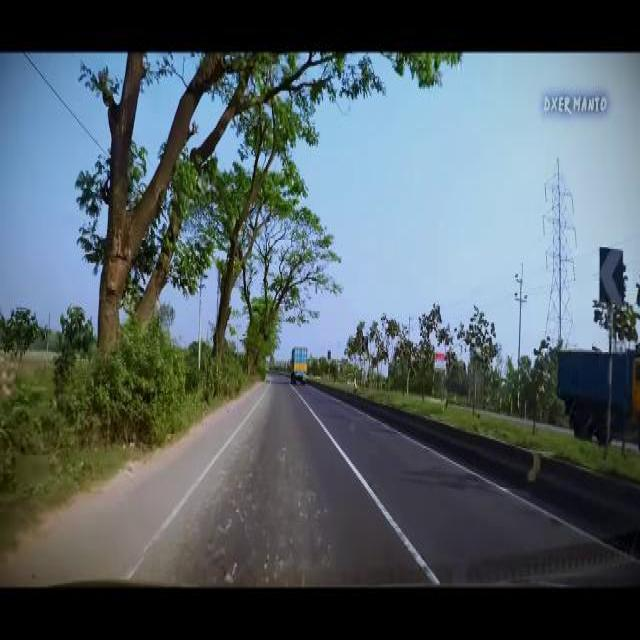truck: (553, 340, 639, 446), (288, 344, 310, 388)
